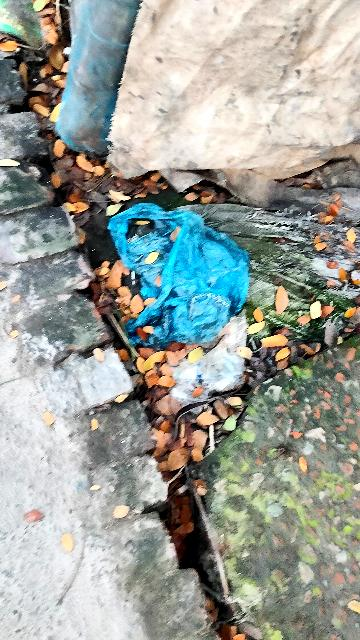polythene: (85, 212, 251, 362)
